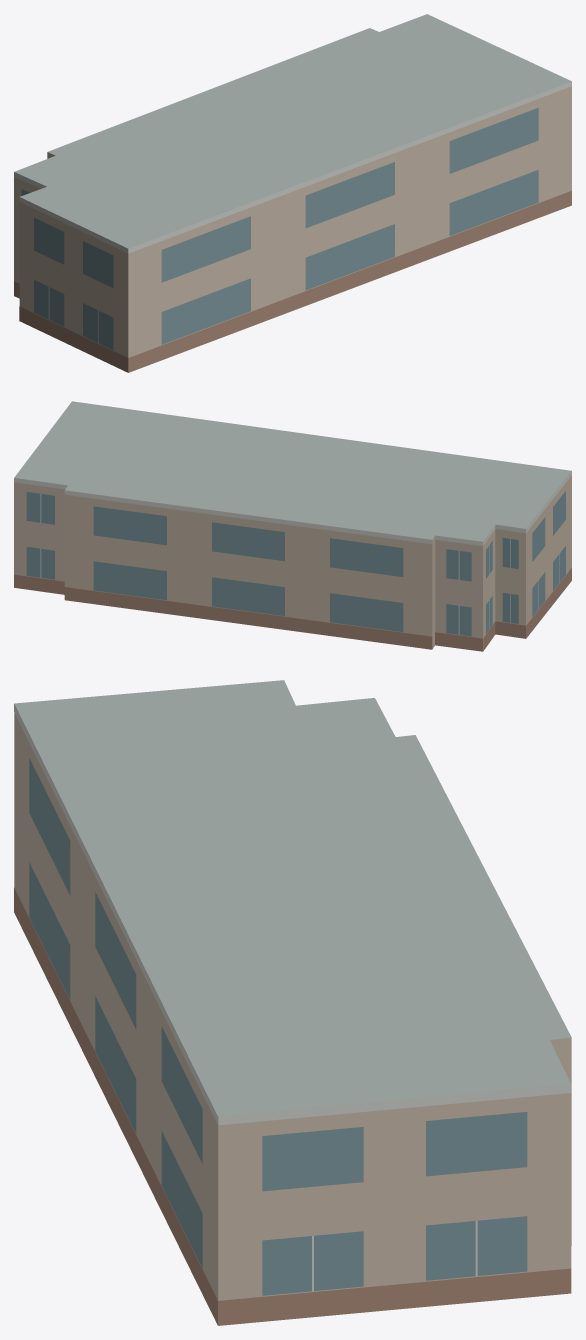
File: survey-upis-32866446.glb
The picture shows the model from 3 angles, top to bottom: view 1: azimuth 30°, elevation 25°; view 2: azimuth 150°, elevation 25°; view 3: azimuth 270°, elevation 25°; orthographic projection. The views are drawn at different scales.
Parts seen in each view (by area): view 1: survey-upis-32866446.tmp; view 2: survey-upis-32866446.tmp; view 3: survey-upis-32866446.tmp.
Part boxes in pixels (x1,y1,x2,y2): survey-upis-32866446.tmp: (14, 14, 571, 372); survey-upis-32866446.tmp: (14, 401, 571, 651); survey-upis-32866446.tmp: (14, 680, 571, 1325).
Bounding box in the file's own units: 27.39 × 6.1 × 14.78.
